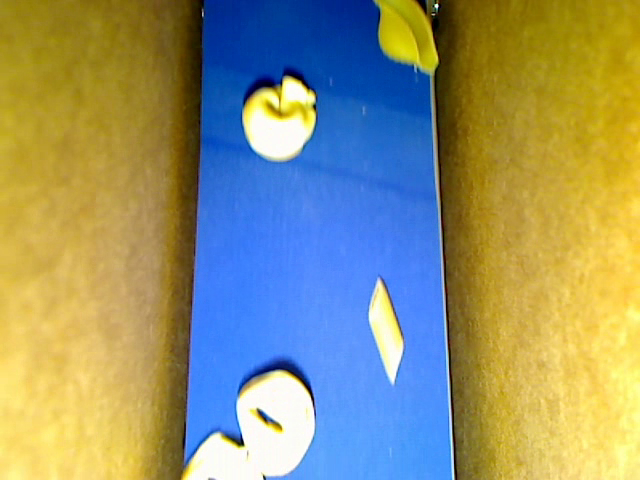penne: (368, 275, 403, 384)
shell: (372, 1, 439, 76)
tortellini: (236, 370, 316, 477), (241, 75, 316, 163), (179, 431, 263, 479)
